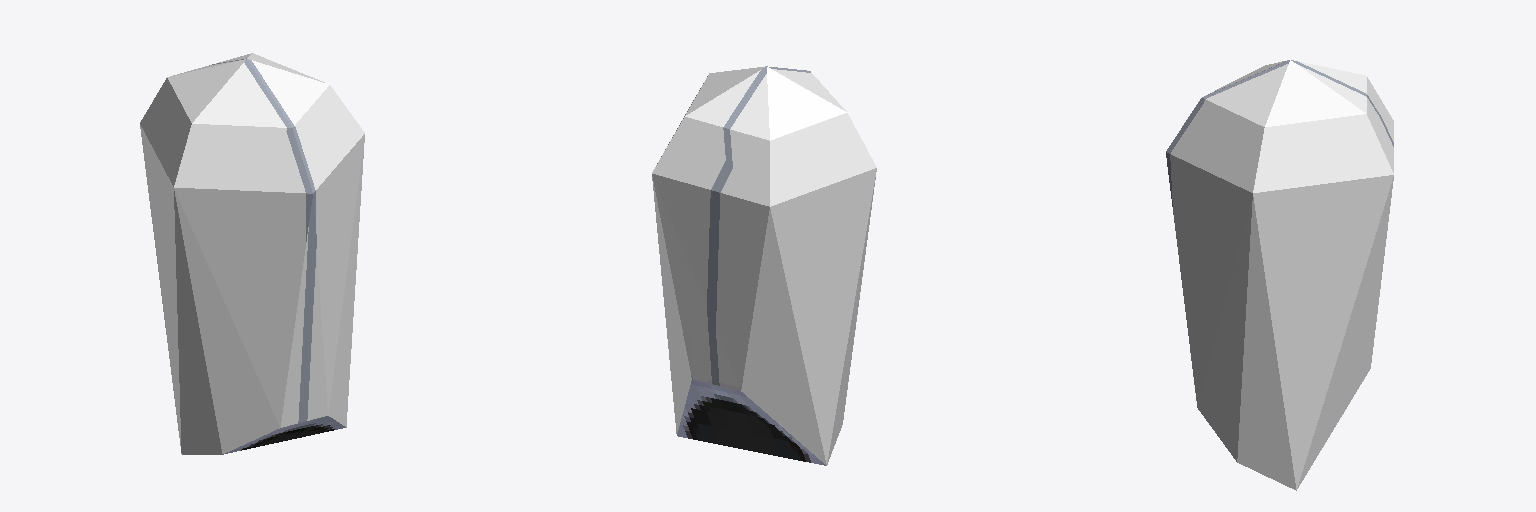
3 views of the same model, side by side, from view 1: azimuth 30°, elevation 25°; view 2: azimuth 150°, elevation 25°; view 3: azimuth 270°, elevation 25° (orthographic).
Visible parts, largest first — view 1: buzzlightyLeftThigh_buzzlighty.019; view 2: buzzlightyLeftThigh_buzzlighty.019; view 3: buzzlightyLeftThigh_buzzlighty.019.
Part boxes in pixels (x1,y1,x2,y2): buzzlightyLeftThigh_buzzlighty.019: (140,53,364,454); buzzlightyLeftThigh_buzzlighty.019: (652,66,876,465); buzzlightyLeftThigh_buzzlighty.019: (1166,60,1393,490).
Size of the model in its own units: 0.091 by 0.1768 by 0.0942.
1 materials, 1 textured.